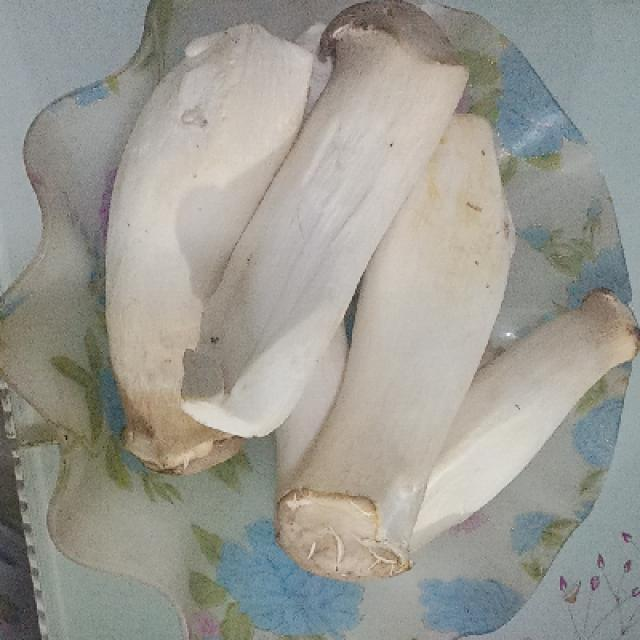Pleurotus eryngii: (102, 21, 640, 582)
